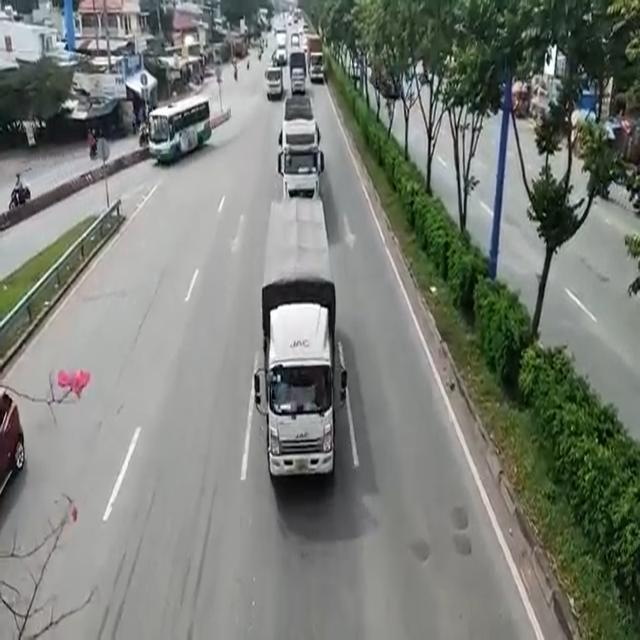bus: (144, 101, 224, 149)
truck: (267, 200, 339, 479), (282, 98, 320, 200), (289, 50, 303, 90)
